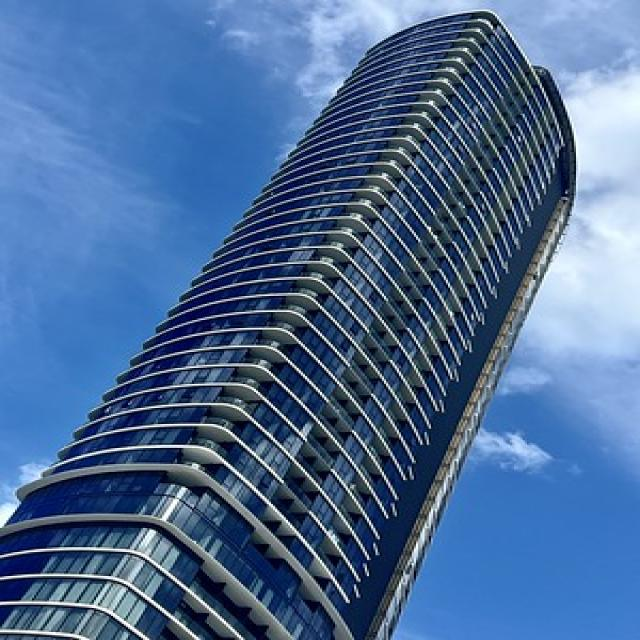building: (4, 8, 582, 638)
